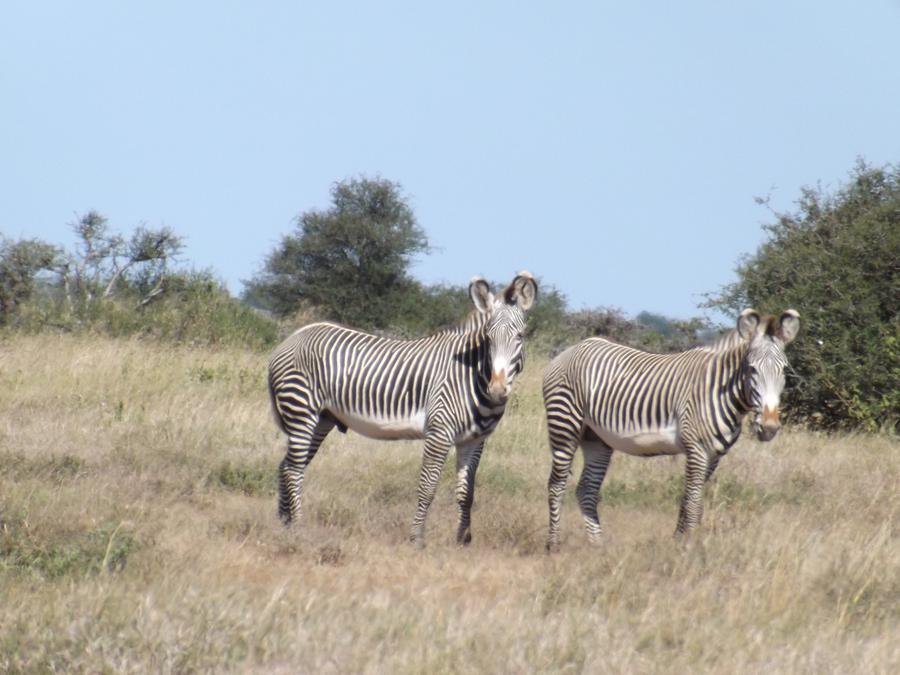zebra_grevys: (262, 294, 466, 451), (537, 308, 720, 457)
